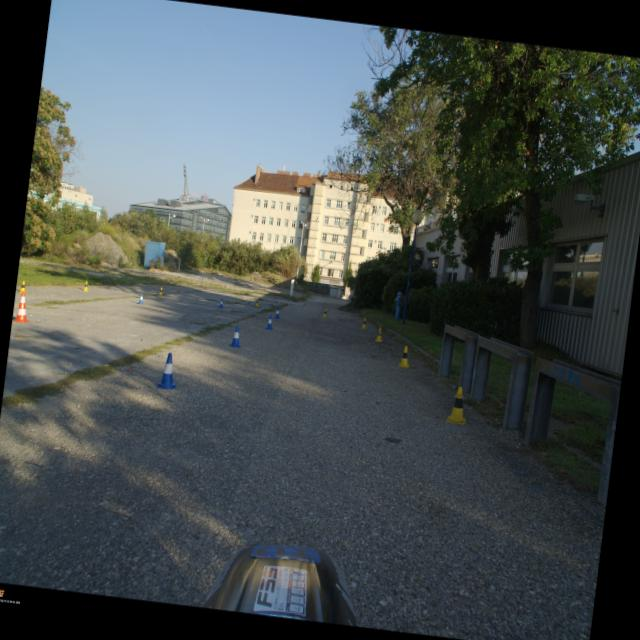blue_cone: (156, 352, 180, 391), (229, 324, 243, 348), (265, 314, 274, 330), (274, 306, 280, 318), (138, 293, 144, 304), (218, 298, 224, 308)
large_orange_cone: (12, 290, 33, 323)
yellow_cone: (446, 385, 470, 425), (398, 345, 412, 368), (374, 327, 384, 342), (18, 280, 28, 293), (361, 317, 368, 329), (82, 280, 89, 291), (322, 308, 328, 318), (158, 286, 164, 296), (254, 298, 260, 306)
